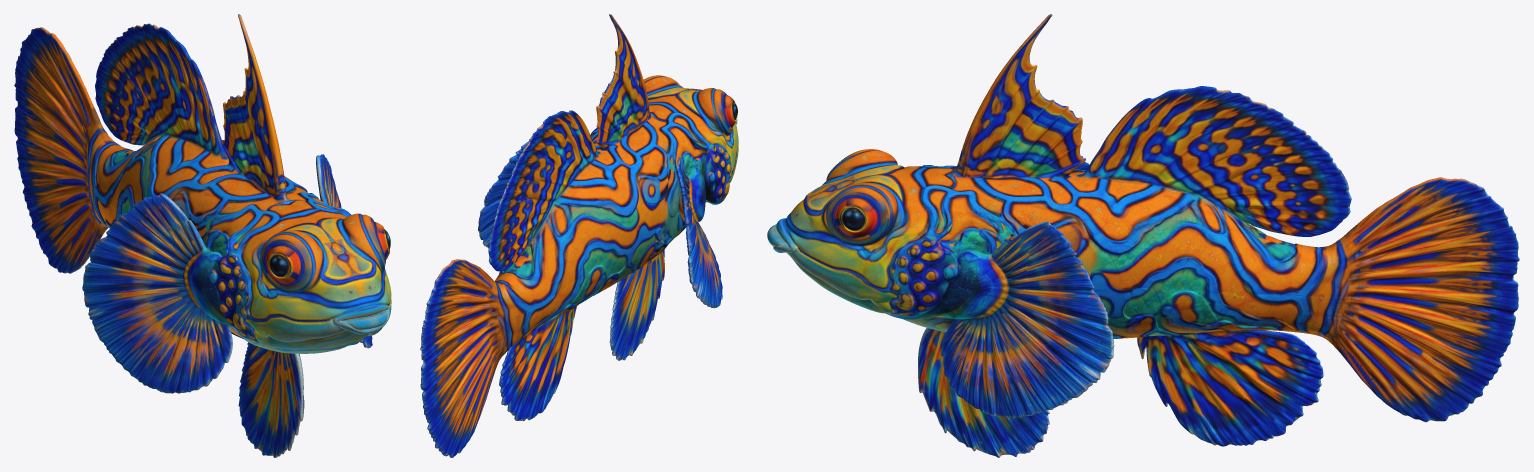
The model's file is reef_life_mandarin_optimized.glb.
3 views of the same model, side by side, from view 1: azimuth 30°, elevation 25°; view 2: azimuth 150°, elevation 25°; view 3: azimuth 270°, elevation 25° (orthographic). The views are drawn at different scales.
Bounding box in the file's own units: 0.7872 × 1.24 × 1.91.
Materials: 1 (1 with a texture image).
